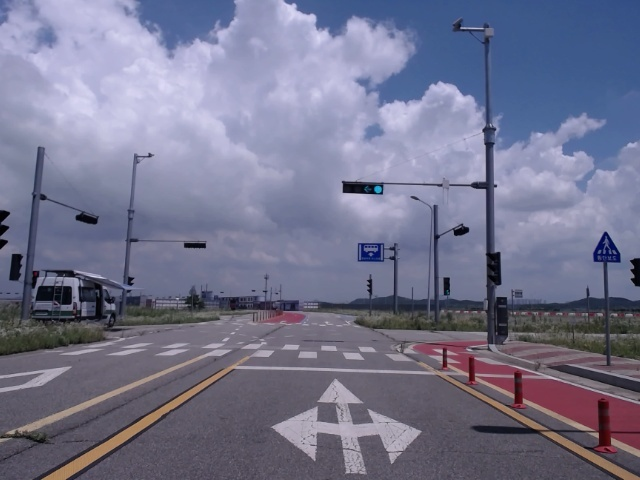all_green_4: (341, 180, 383, 196)
